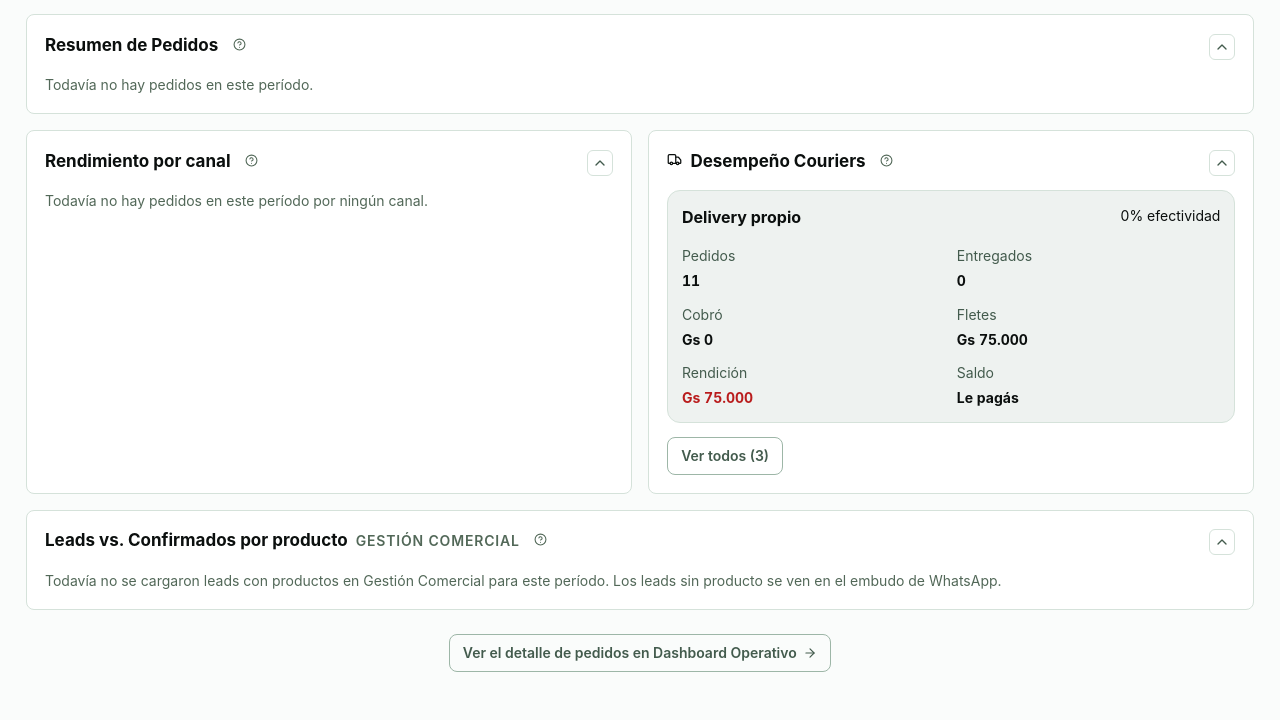
Scenario: MiDashboard: métricas que no se contradicen › oculta los couriers sin actividad y deja verlos todos
The width and height of the screenshot is (1280, 720).
(page scrolled)
Expected: the text "Delivery propio" is shown, [682,207,801,227]
Expected: the text "Courier QA 1" is not shown
Click the button "Ver todos (3)" at (725, 456), box [667,437,783,475]
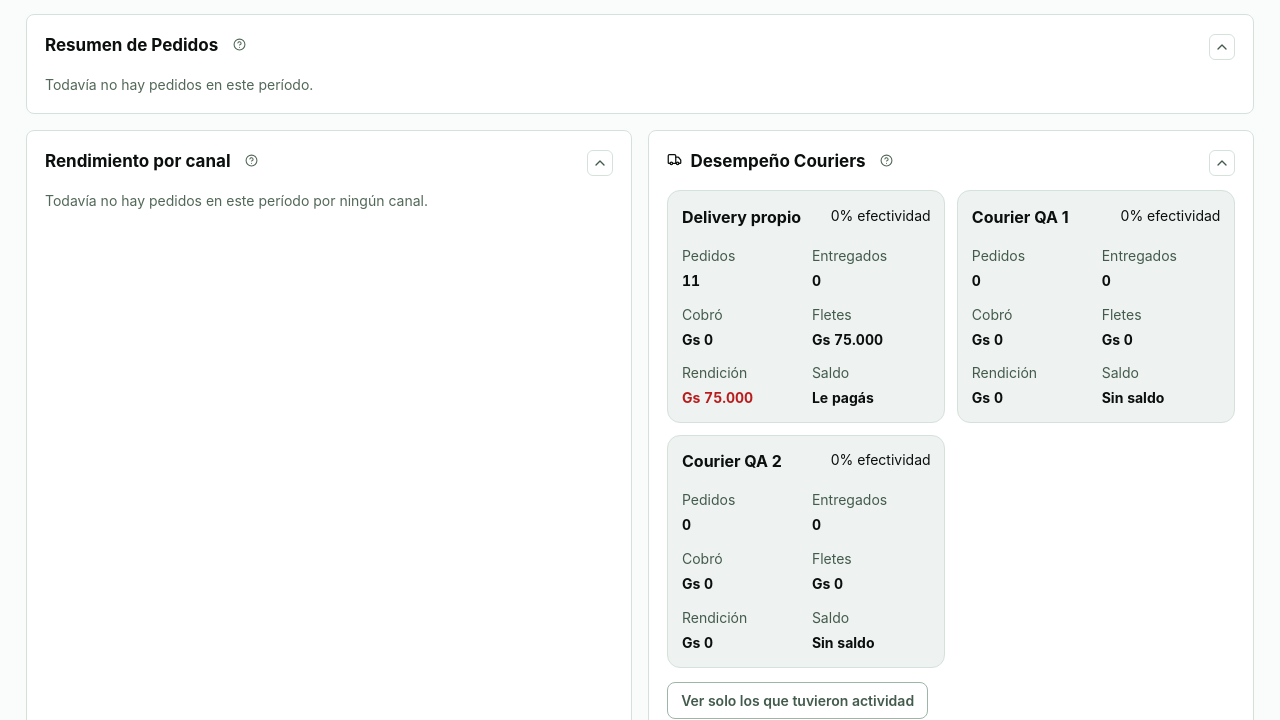
Expected: the text "Courier QA 1" is shown, [972,207,1069,227]
